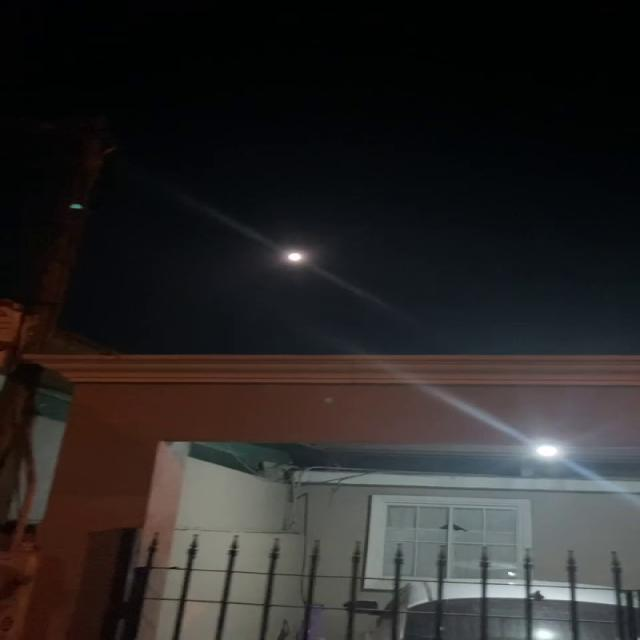moon: (282, 245, 317, 280)
